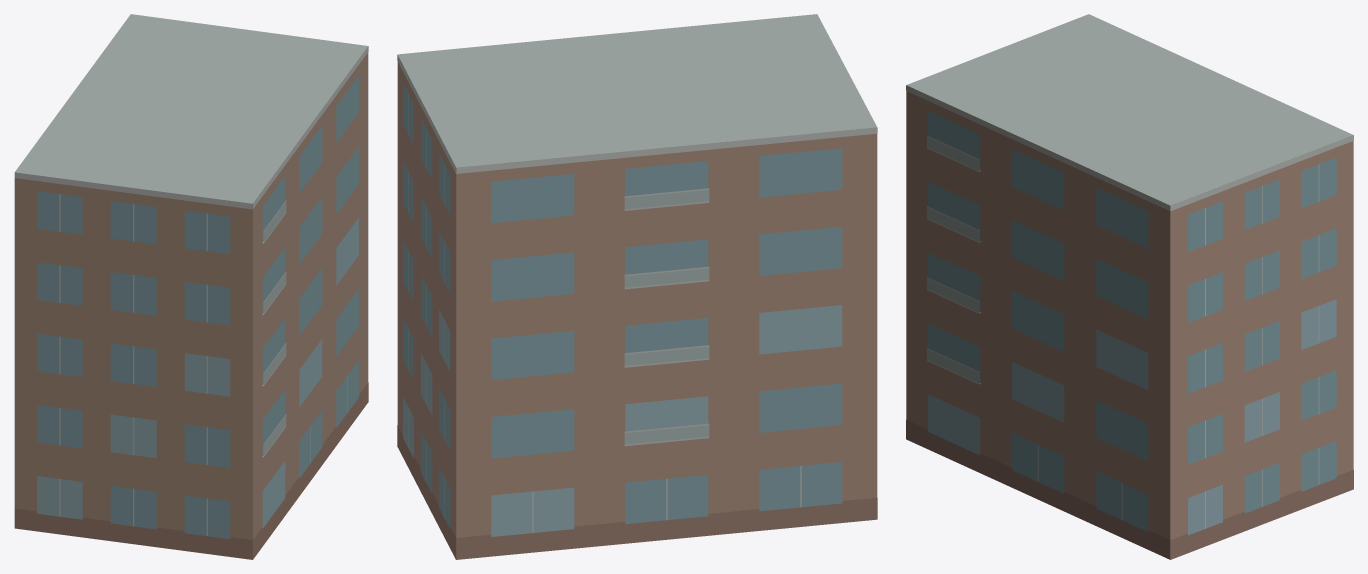
The model's file is survey-upis-32604173.glb.
The picture shows the model from 3 angles, left to right: view 1: azimuth 30°, elevation 25°; view 2: azimuth 150°, elevation 25°; view 3: azimuth 270°, elevation 25°; orthographic projection. The views are drawn at different scales.
Visible parts, largest first — view 1: survey-upis-32604173.tmp; view 2: survey-upis-32604173.tmp; view 3: survey-upis-32604173.tmp.
Part boxes in pixels (x1=…): survey-upis-32604173.tmp: x1=14, y1=14, x2=368, y2=559; survey-upis-32604173.tmp: x1=397, y1=14, x2=877, y2=559; survey-upis-32604173.tmp: x1=906, y1=14, x2=1353, y2=559.
Size of the model in its own units: 17.76 by 15.3 by 17.53.
